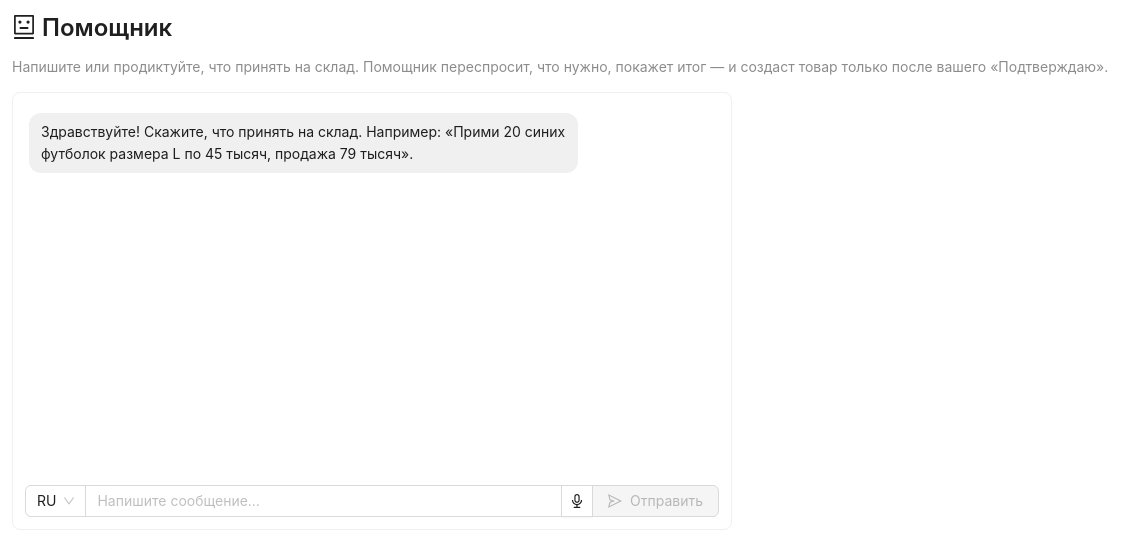
Test case: AssistantPage › отправляет сообщение и показывает ответ помощника
Type "Прими 20 футболок" into the field named "Сообщение помощнику".
click(324, 501); type("Прими 20 футболок")  # box [85,485,562,517]
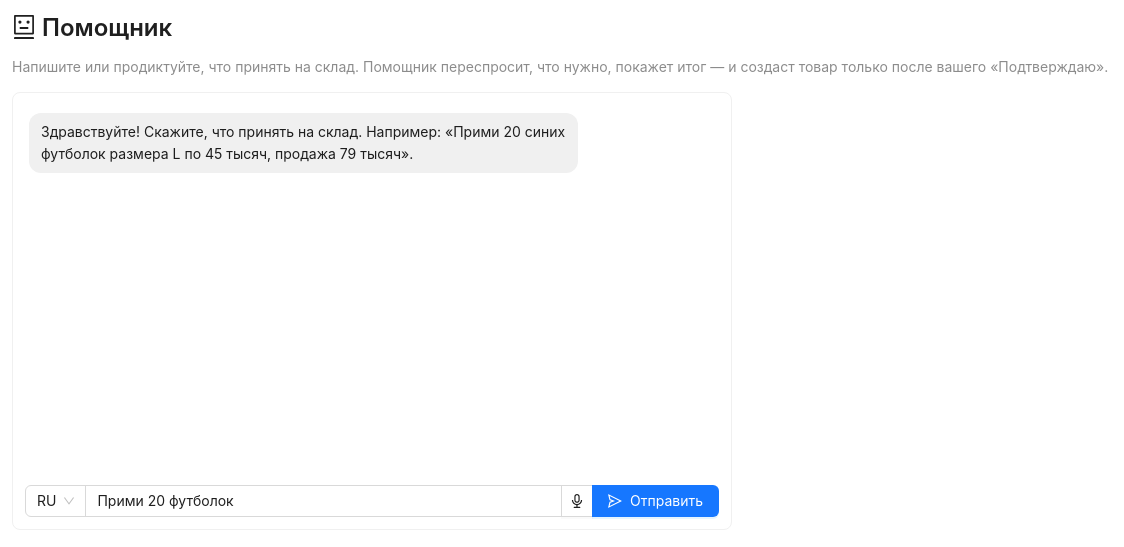
Click the button "Отправить".
click(656, 501)  # box [592,485,719,517]
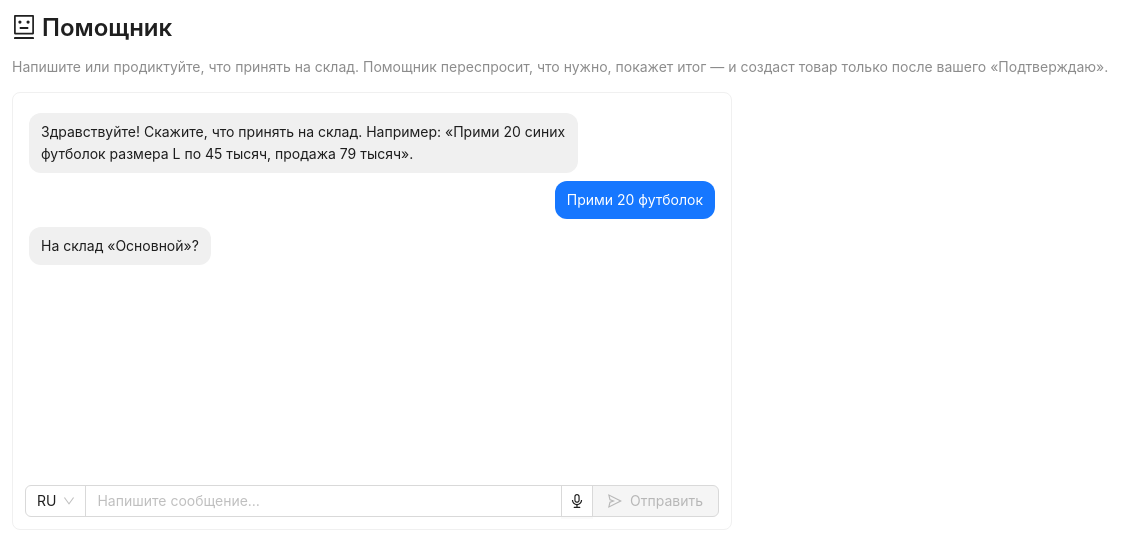
Now the text "Прими 20 футболок" is shown, box [555,181,715,219]
Now the text "На склад «Основной»?" is shown, box [29,227,211,265]
